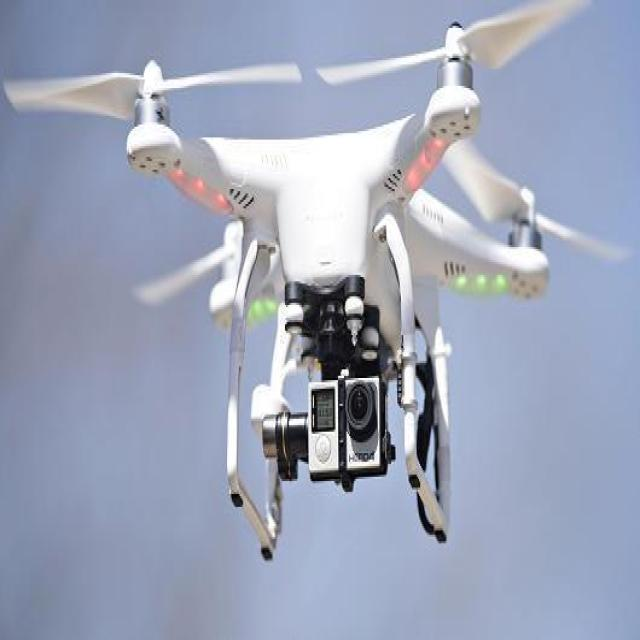drone: (126, 18, 553, 561)
